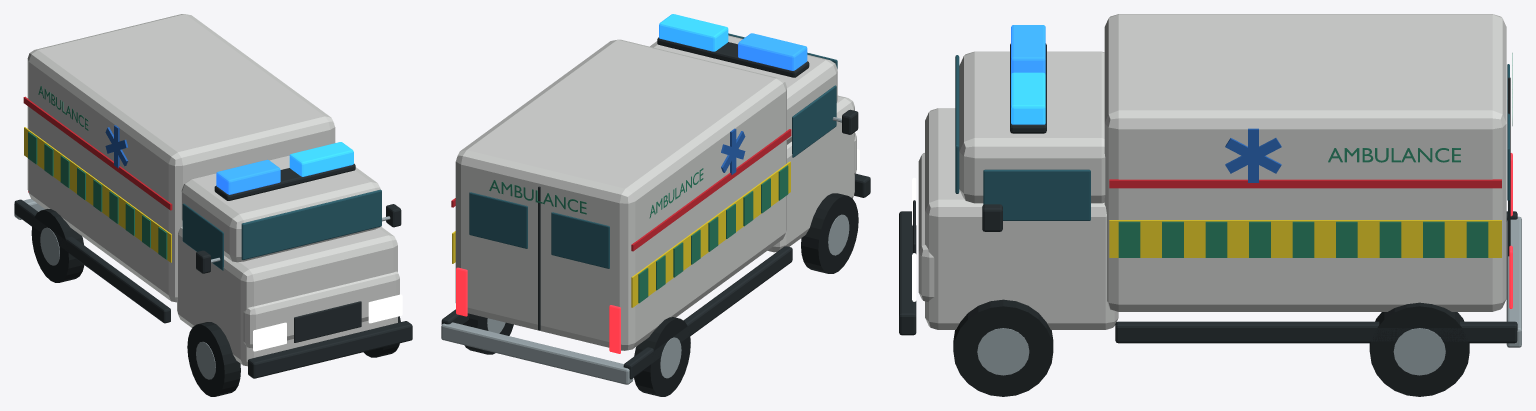
The model's file is ems-ambulanceold.glb.
The picture shows the model from 3 angles, left to right: view 1: azimuth 30°, elevation 25°; view 2: azimuth 150°, elevation 25°; view 3: azimuth 270°, elevation 25°; orthographic projection. The views are drawn at different scales.
Parts seen in each view (by area): view 1: EMS_Ambulance_Ambulance pearl white, EMS_Ambulance_Graphite trim, EMS_Ambulance_Blue grey glazing, EMS_Ambulance_Service green, Wheel_LF_Rubber, EMS_Ambulance_Reflective yellow, Wheel_LB_Rubber, EMS_Ambulance_BeaconBlueRight, EMS_Ambulance_BeaconBlueLeft, EMS_Ambulance_Headlamp, EMS_Ambulance_EMS red, Wheel_LF_Brushed steel (+2 smaller); view 2: EMS_Ambulance_Ambulance pearl white, EMS_Ambulance_Blue grey glazing, EMS_Ambulance_Graphite trim, EMS_Ambulance_Brushed steel, EMS_Ambulance_Service green, Wheel_LF_Rubber, EMS_Ambulance_Reflective yellow, Wheel_LB_Rubber, EMS_Ambulance_BeaconBlueRight, EMS_Ambulance_BeaconBlueLeft, EMS_Ambulance_EMS red, EMS_Ambulance_BeaconRed (+4 smaller); view 3: EMS_Ambulance_Ambulance pearl white, EMS_Ambulance_Graphite trim, EMS_Ambulance_Service green, EMS_Ambulance_Reflective yellow, EMS_Ambulance_Blue grey glazing, Wheel_RF_Rubber, Wheel_RB_Rubber, EMS_Ambulance_EMS red, Wheel_RB_Brushed steel, Wheel_RF_Brushed steel, EMS_Ambulance_BeaconBlueRight, EMS_Ambulance_BeaconBlueLeft (+2 smaller).
Part boxes in pixels (x1=…): EMS_Ambulance_Ambulance pearl white: x1=27, y1=14, x2=399, y2=366; EMS_Ambulance_Graphite trim: x1=14, y1=163, x2=412, y2=378; EMS_Ambulance_Blue grey glazing: x1=182, y1=189, x2=381, y2=270; EMS_Ambulance_Service green: x1=28, y1=86, x2=167, y2=259; Wheel_LF_Rubber: x1=187, y1=322, x2=240, y2=396; EMS_Ambulance_Reflective yellow: x1=24, y1=127, x2=171, y2=262; Wheel_LB_Rubber: x1=31, y1=209, x2=84, y2=282; EMS_Ambulance_BeaconBlueRight: x1=289, y1=142, x2=353, y2=176; EMS_Ambulance_BeaconBlueLeft: x1=216, y1=159, x2=280, y2=194; EMS_Ambulance_Headlamp: x1=253, y1=294, x2=402, y2=351; EMS_Ambulance_EMS red: x1=23, y1=96, x2=172, y2=210; Wheel_LF_Brushed steel: x1=196, y1=341, x2=215, y2=379; EMS_Ambulance_Ambulance pearl white: x1=455, y1=35, x2=856, y2=350; EMS_Ambulance_Blue grey glazing: x1=469, y1=33, x2=837, y2=268; EMS_Ambulance_Graphite trim: x1=441, y1=37, x2=870, y2=379; EMS_Ambulance_Brushed steel: x1=441, y1=117, x2=841, y2=384; EMS_Ambulance_Service green: x1=489, y1=165, x2=788, y2=303; Wheel_LF_Rubber: x1=801, y1=193, x2=858, y2=273; EMS_Ambulance_Reflective yellow: x1=452, y1=161, x2=790, y2=307; Wheel_LB_Rubber: x1=634, y1=317, x2=690, y2=396; EMS_Ambulance_BeaconBlueRight: x1=659, y1=14, x2=728, y2=51; EMS_Ambulance_BeaconBlueLeft: x1=738, y1=33, x2=807, y2=70; EMS_Ambulance_EMS red: x1=451, y1=129, x2=791, y2=251; EMS_Ambulance_BeaconRed: x1=456, y1=267, x2=620, y2=353; EMS_Ambulance_Ambulance pearl white: x1=918, y1=14, x2=1506, y2=329; EMS_Ambulance_Graphite trim: x1=899, y1=43, x2=1517, y2=343; EMS_Ambulance_Service green: x1=1118, y1=53, x2=1512, y2=257; EMS_Ambulance_Reflective yellow: x1=1109, y1=220, x2=1501, y2=257; EMS_Ambulance_Blue grey glazing: x1=955, y1=55, x2=1509, y2=220; Wheel_RF_Rubber: x1=953, y1=299, x2=1053, y2=396; Wheel_RB_Rubber: x1=1369, y1=302, x2=1469, y2=396; EMS_Ambulance_EMS red: x1=1109, y1=179, x2=1501, y2=188; Wheel_RB_Brushed steel: x1=1393, y1=328, x2=1445, y2=375; Wheel_RF_Brushed steel: x1=977, y1=328, x2=1029, y2=375; EMS_Ambulance_BeaconBlueRight: x1=1011, y1=72, x2=1045, y2=124; EMS_Ambulance_BeaconBlueLeft: x1=1011, y1=25, x2=1045, y2=74.
Size of the model in its own units: 2.83 by 2.81 by 5.73.
